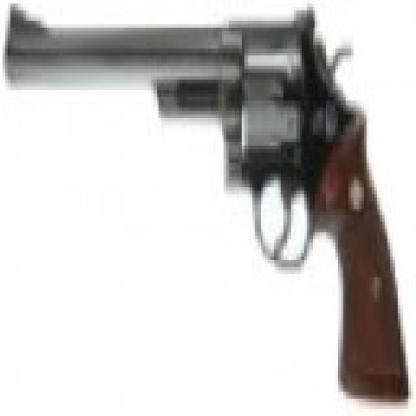pistol: (8, 10, 411, 409)
